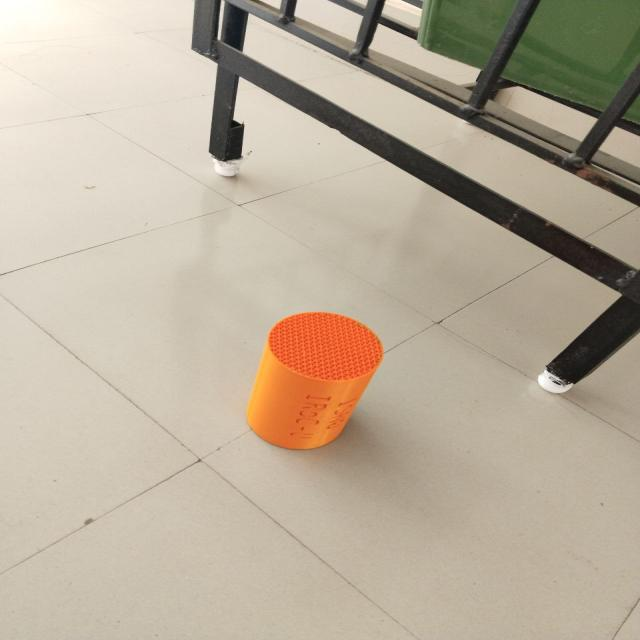Cylinder: (245, 310, 384, 450)
